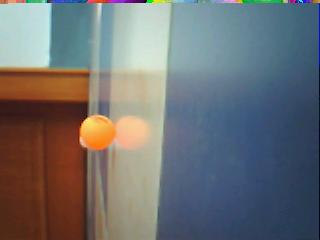oball: (79, 114, 115, 150)
